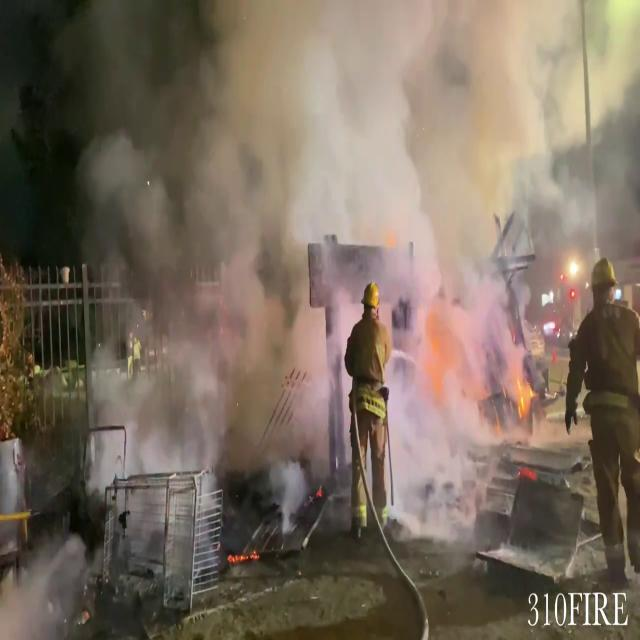Fire: (511, 356, 536, 418)
Smoke: (74, 0, 570, 538)
